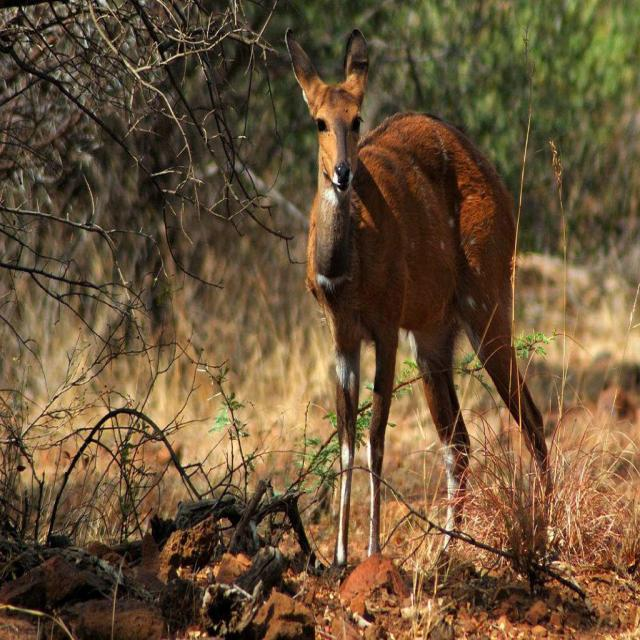Deer: (289, 24, 553, 580)
